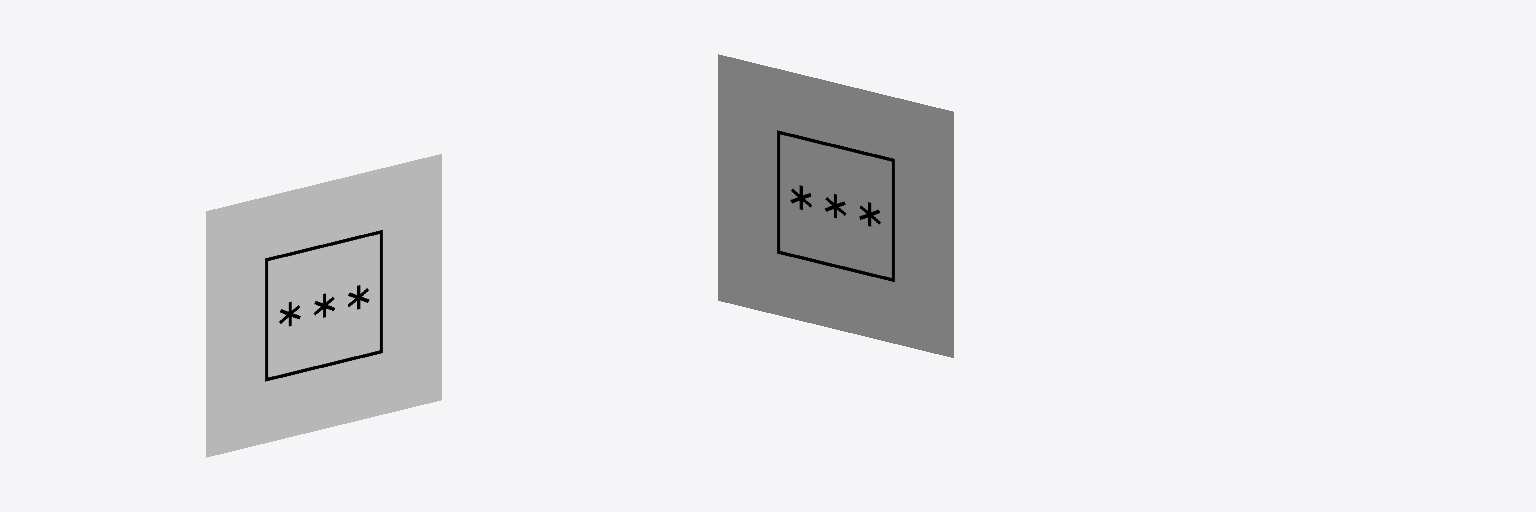
The picture shows the model from 3 angles: view 1: azimuth 30°, elevation 25°; view 2: azimuth 150°, elevation 25°; view 3: azimuth 270°, elevation 25°; orthographic projection.
Parts seen in each view (by area): view 1: Mesh; view 2: Mesh; view 3: none.
Boxes of the visible parts, x1,y1,x2,y2 form: Mesh: [206, 154, 441, 457]; Mesh: [718, 54, 953, 357].
Bounding box in the file's own units: 50 × 50 × 50.
Materials: 2 (2 with a texture image).